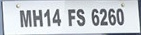character: (18, 9, 32, 27), (32, 8, 43, 28), (51, 8, 61, 27), (76, 8, 85, 27), (99, 8, 108, 26), (107, 8, 116, 26), (115, 8, 124, 26), (43, 8, 51, 27), (91, 8, 99, 26), (67, 9, 75, 26)
